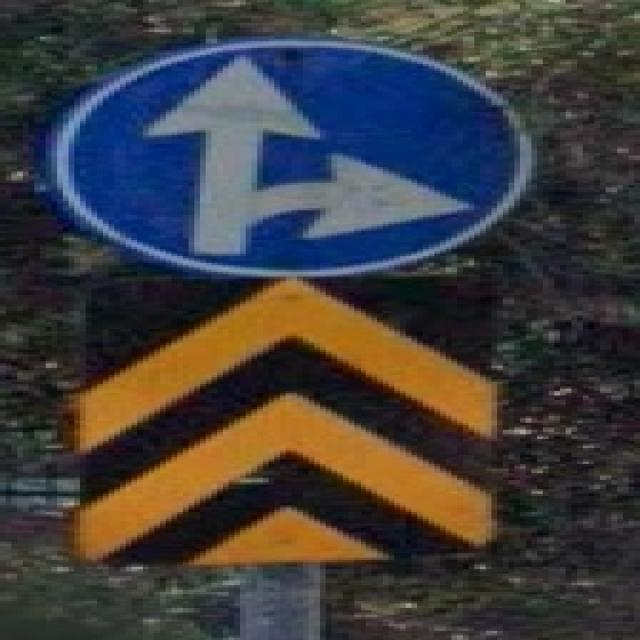Straight or Right: (58, 42, 521, 275)
